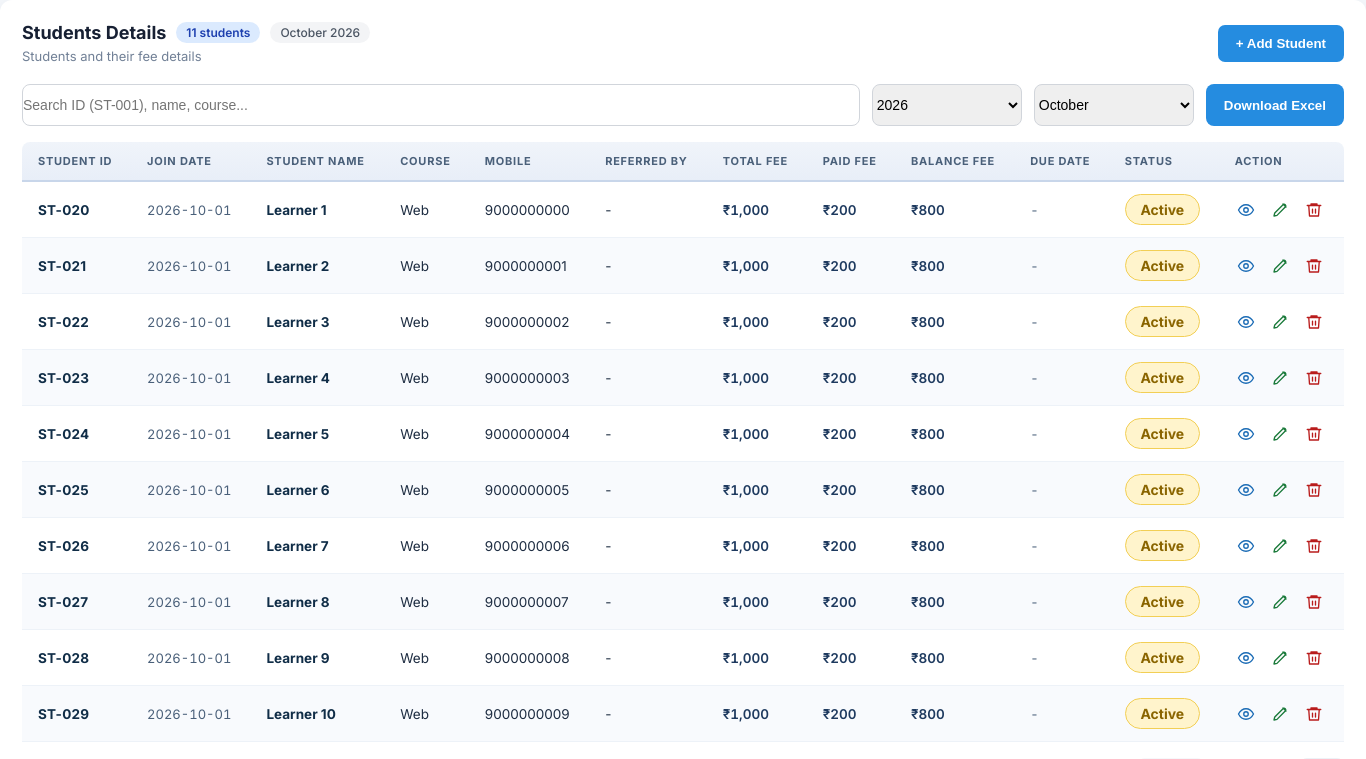
Scenario: student add form includes referral source and comments fields
The image size is (1366, 759).
Click the button "+ Add Student" at coordinates (1281, 43), box [1218, 24, 1344, 62]
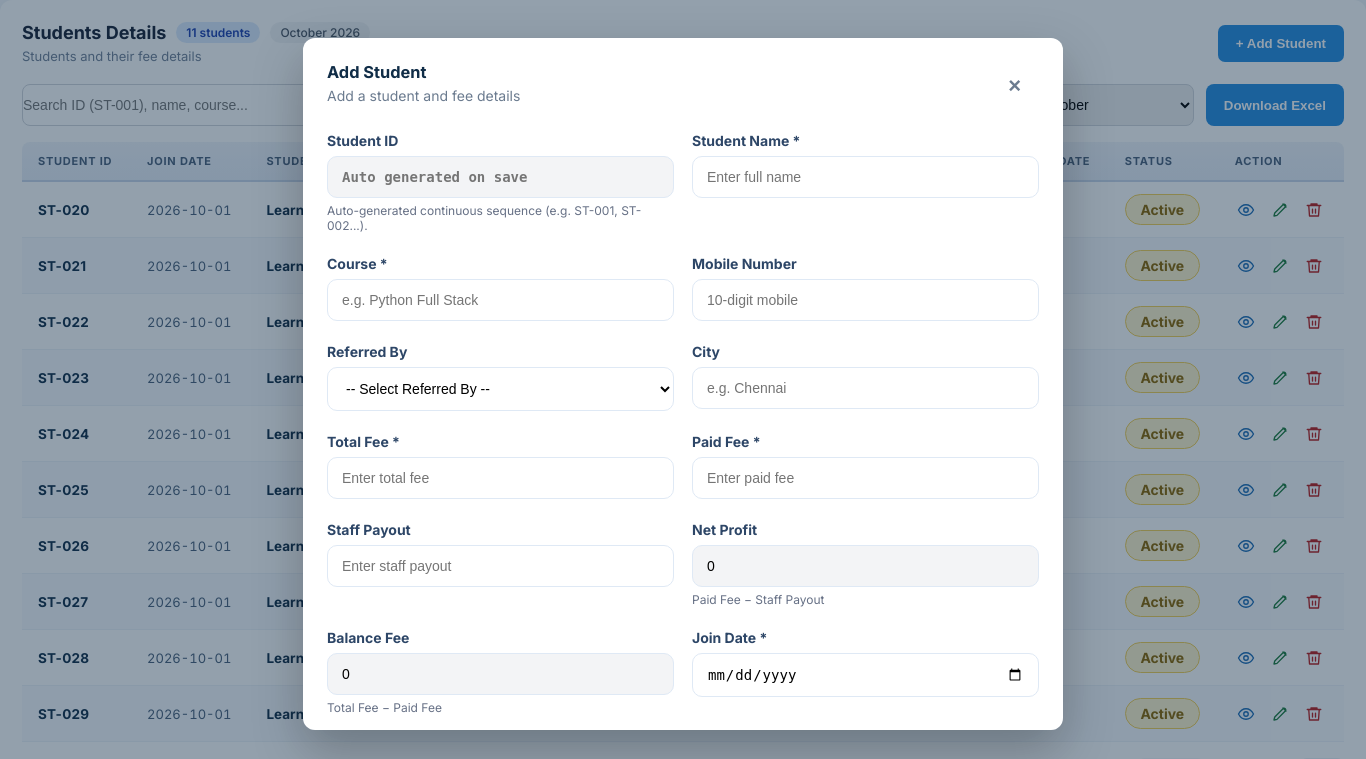
Now the dropdown named "referred_by" is shown, box [327, 367, 674, 411]
Now the number field named "staffPayout" is shown, box [327, 545, 674, 587]
Now the number field named "netProfit" is shown, box [692, 545, 1039, 587]
